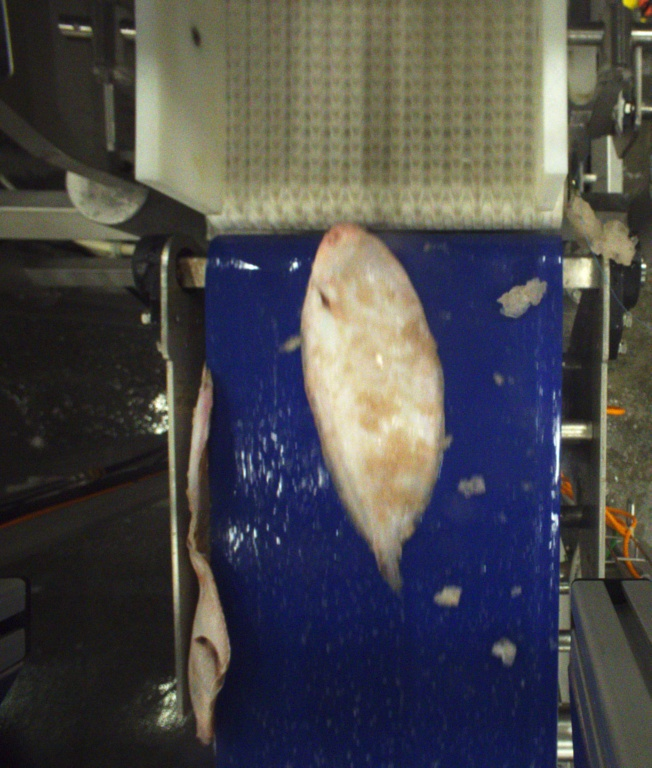SOL: (304, 225, 443, 588)
